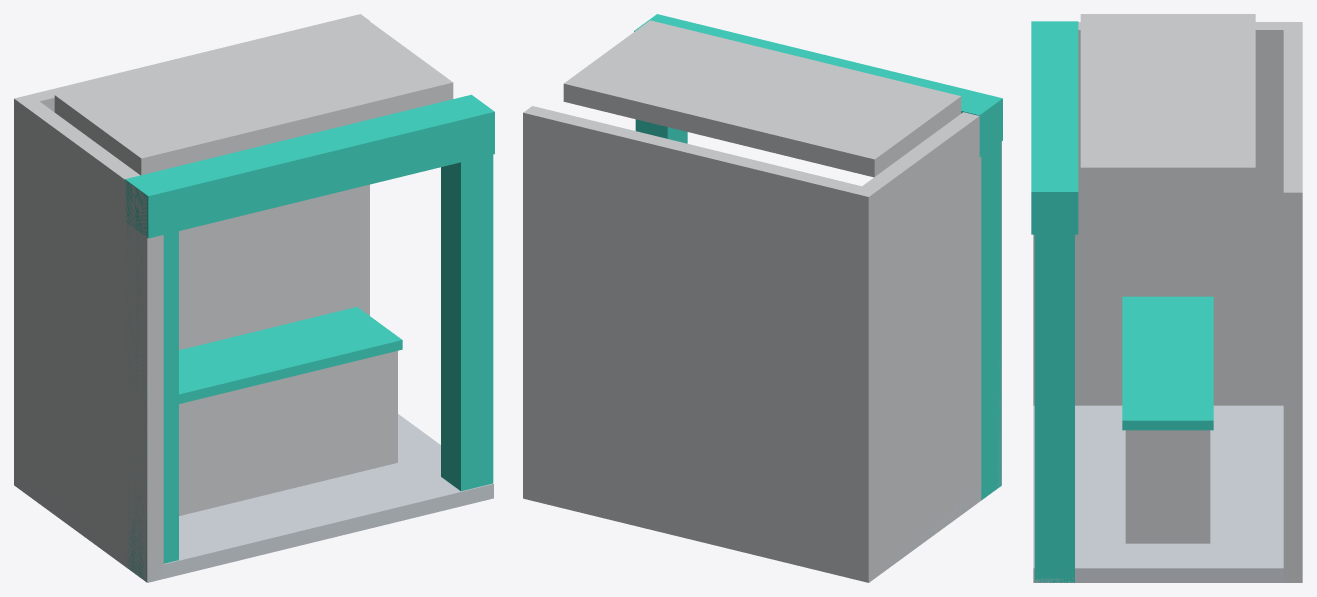
3 renders of one model, left to right at view 1: azimuth 30°, elevation 25°; view 2: azimuth 150°, elevation 25°; view 3: azimuth 270°, elevation 25°, orthographic.
Visible parts, largest first — view 1: Exhibition Booth Concept; view 2: Exhibition Booth Concept; view 3: Exhibition Booth Concept.
Part boxes in pixels (box(x1,y1,x2,y2)): Exhibition Booth Concept: box(14, 14, 494, 582); Exhibition Booth Concept: box(523, 14, 1002, 582); Exhibition Booth Concept: box(1031, 14, 1302, 582).
Bounding box in the file's own units: 3 × 3.34 × 2.01.
